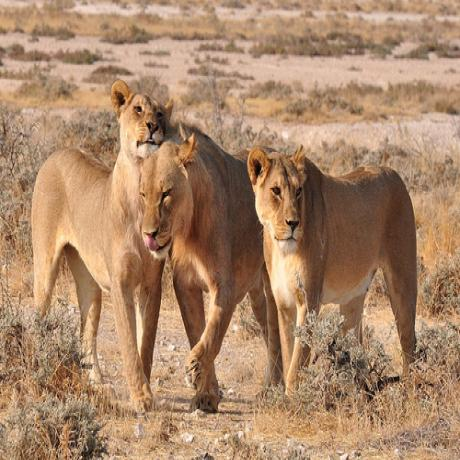Lion: (29, 82, 171, 411), (247, 146, 418, 397), (140, 126, 266, 416)
